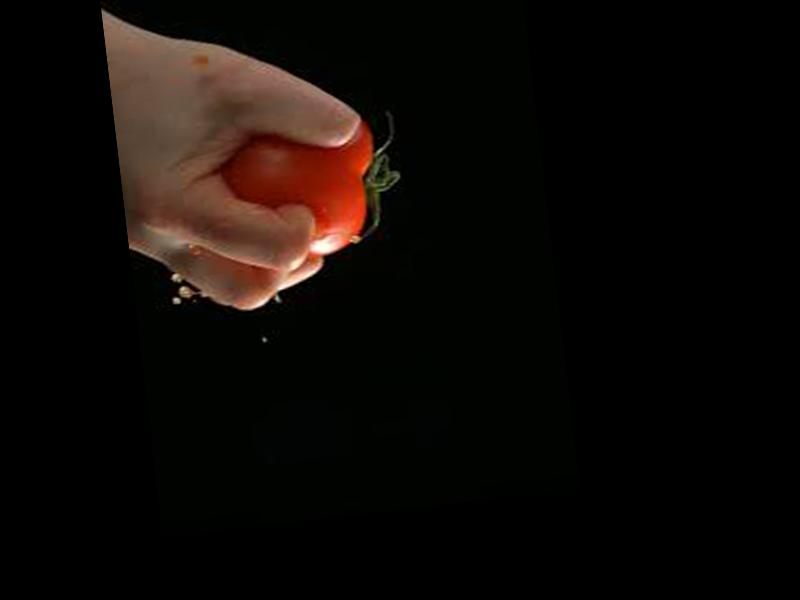Tomato: (218, 118, 385, 264)
